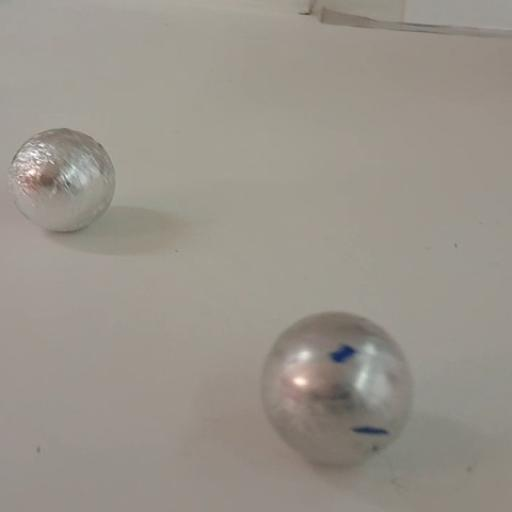alive: (257, 307, 420, 472), (6, 126, 116, 232)
